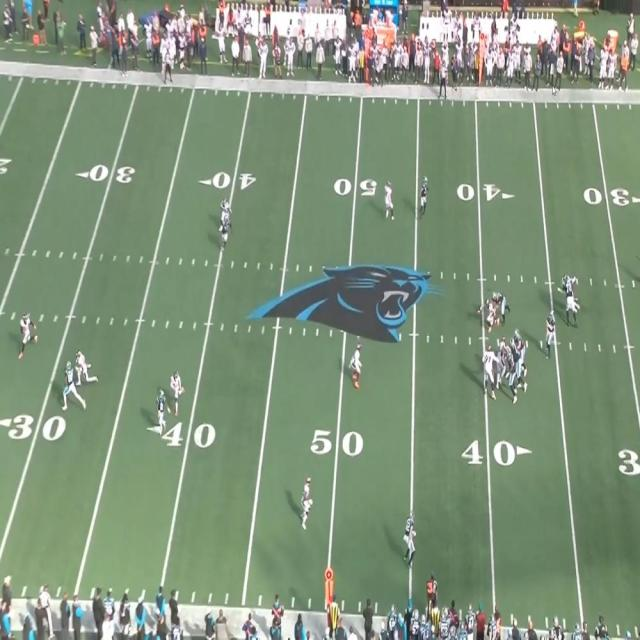db: (304, 476, 314, 528), (173, 372, 184, 416), (22, 315, 33, 353), (221, 198, 231, 227)
lb: (353, 340, 364, 386), (384, 184, 395, 223)
qb: (548, 311, 558, 354)
skill: (402, 514, 415, 560), (62, 360, 74, 407), (156, 388, 166, 436), (420, 178, 431, 218), (222, 215, 229, 249)
